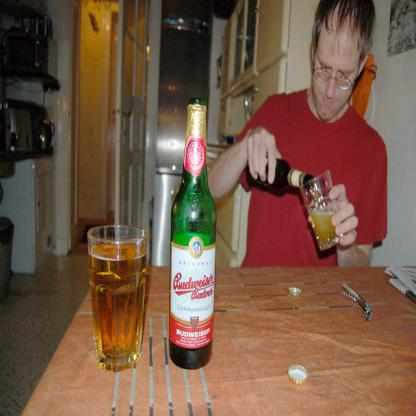drinking: (168, 97, 217, 370), (87, 224, 148, 372), (299, 170, 345, 251), (246, 155, 315, 191)
